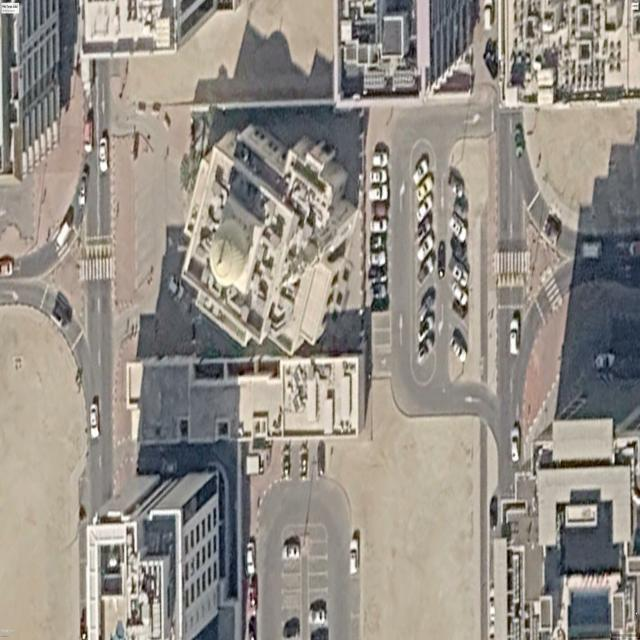Home: (182, 125, 359, 355)
